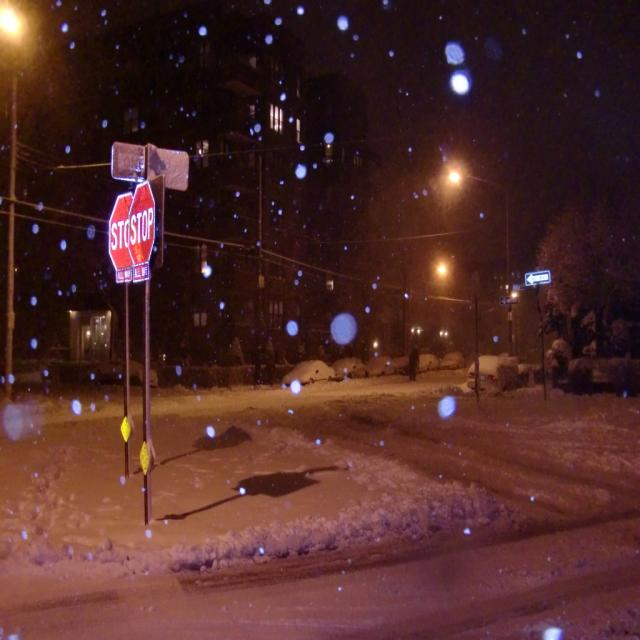Stop-sign: (108, 181, 156, 271)
